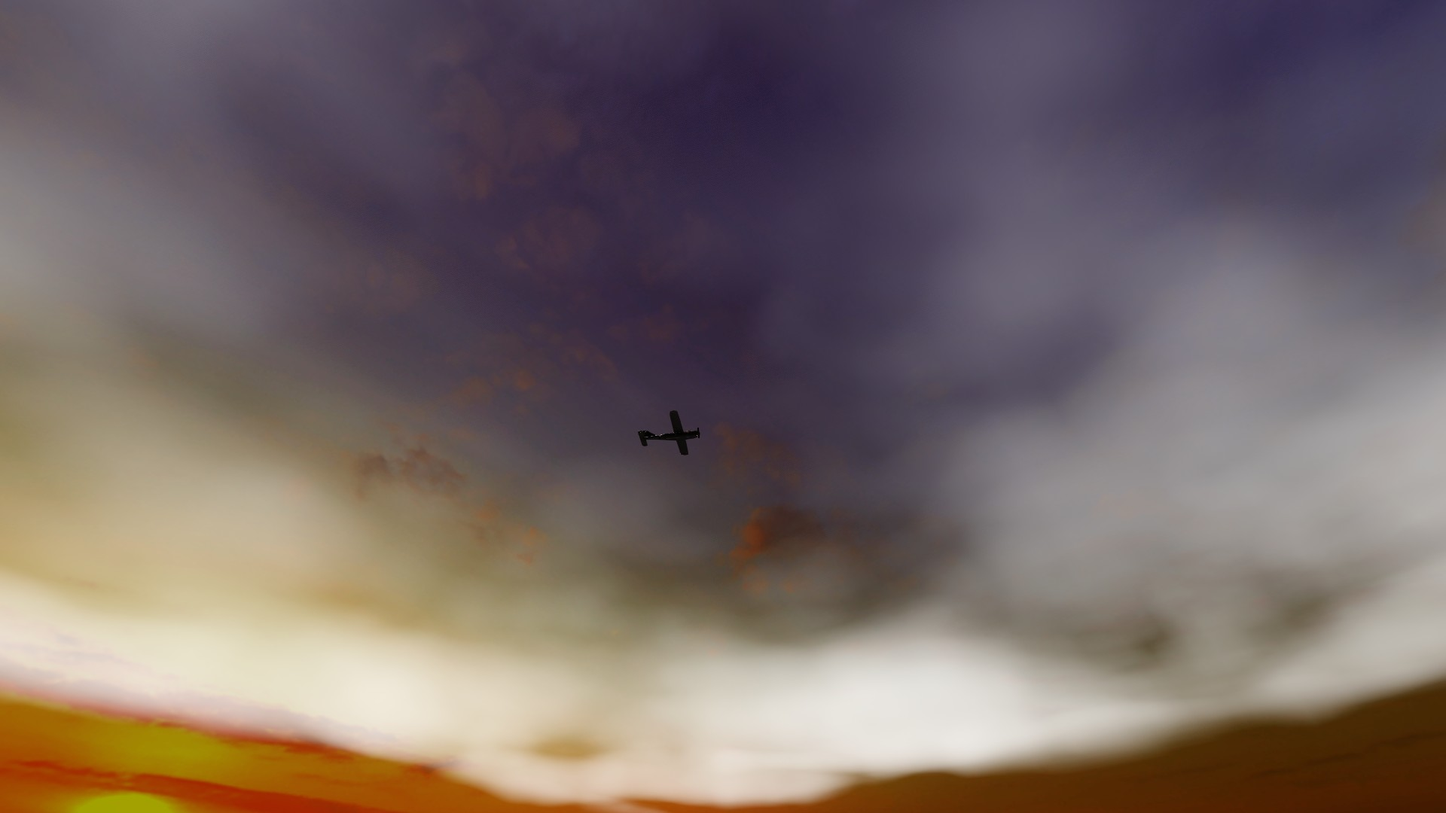drone_other: (638, 411, 700, 455)
